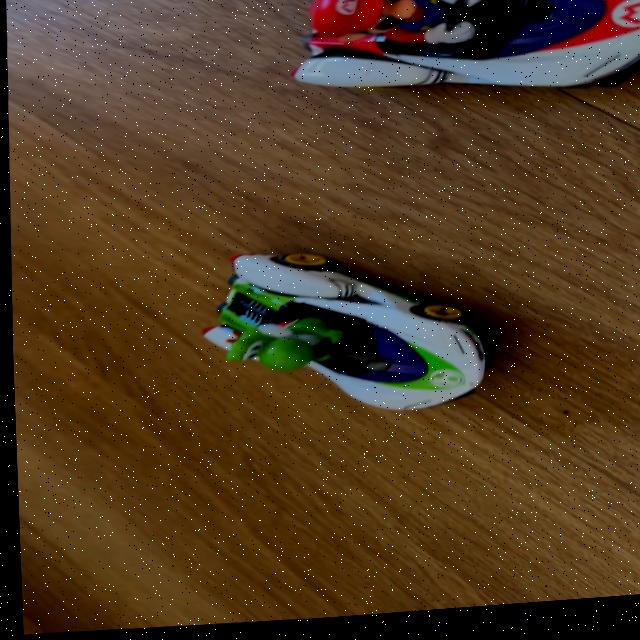mario: (283, 0, 640, 125)
yoshi: (163, 230, 512, 440)
